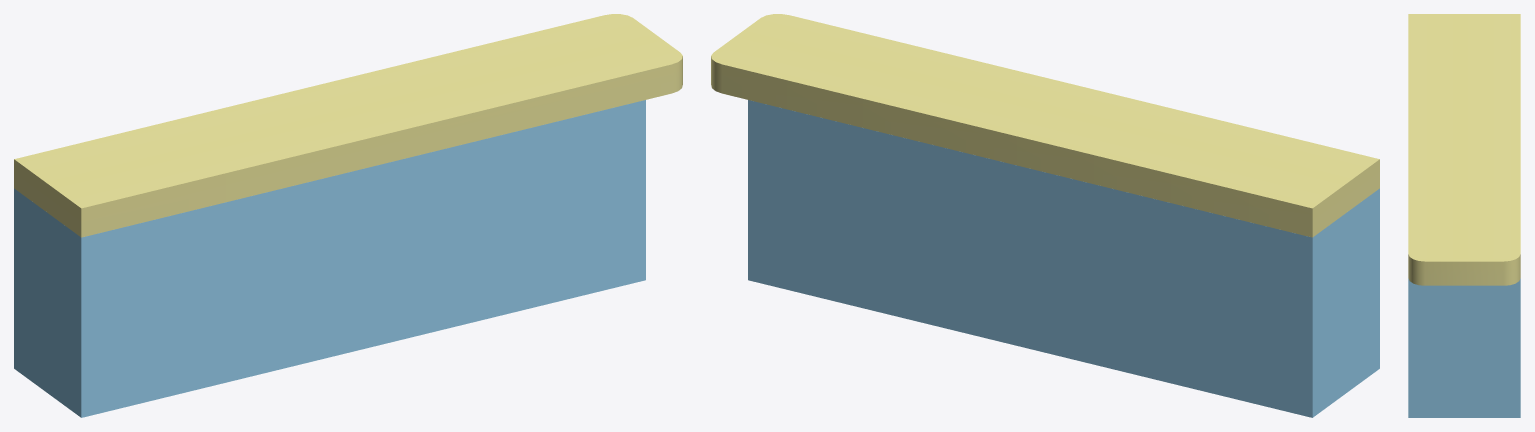
File: table.fbx
3 views of the same model, side by side, from view 1: azimuth 30°, elevation 25°; view 2: azimuth 150°, elevation 25°; view 3: azimuth 270°, elevation 25° (orthographic). The views are drawn at different scales.
Parts seen in each view (by area): view 1: table; view 2: table; view 3: table.
Boxes of the visible parts, x1,y1,x2,y2 form: table: (14,14,682,417); table: (711,14,1379,417); table: (1408,14,1520,417).
Bounding box in the file's own units: 1.75 × 0.5764 × 0.3356.
